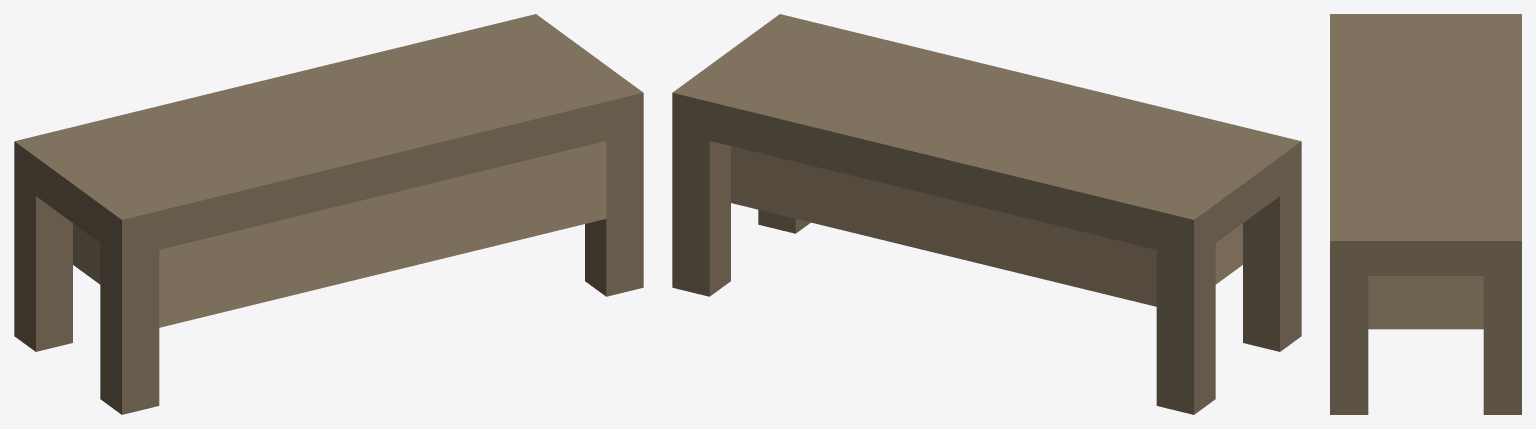
Rendered from banco_madera_03.glb.
The picture shows the model from 3 angles, left to right: view 1: azimuth 30°, elevation 25°; view 2: azimuth 150°, elevation 25°; view 3: azimuth 270°, elevation 25°; orthographic projection. The views are drawn at different scales.
Visible parts, largest first — view 1: banco_madera_03; view 2: banco_madera_03; view 3: banco_madera_03.
Part boxes in pixels (left/top/right/bottom): banco_madera_03: left=14, top=14, right=643, bottom=414; banco_madera_03: left=672, top=14, right=1301, bottom=414; banco_madera_03: left=1330, top=14, right=1521, bottom=414.
Size of the model in its own units: 1.4 by 0.5 by 0.5.
